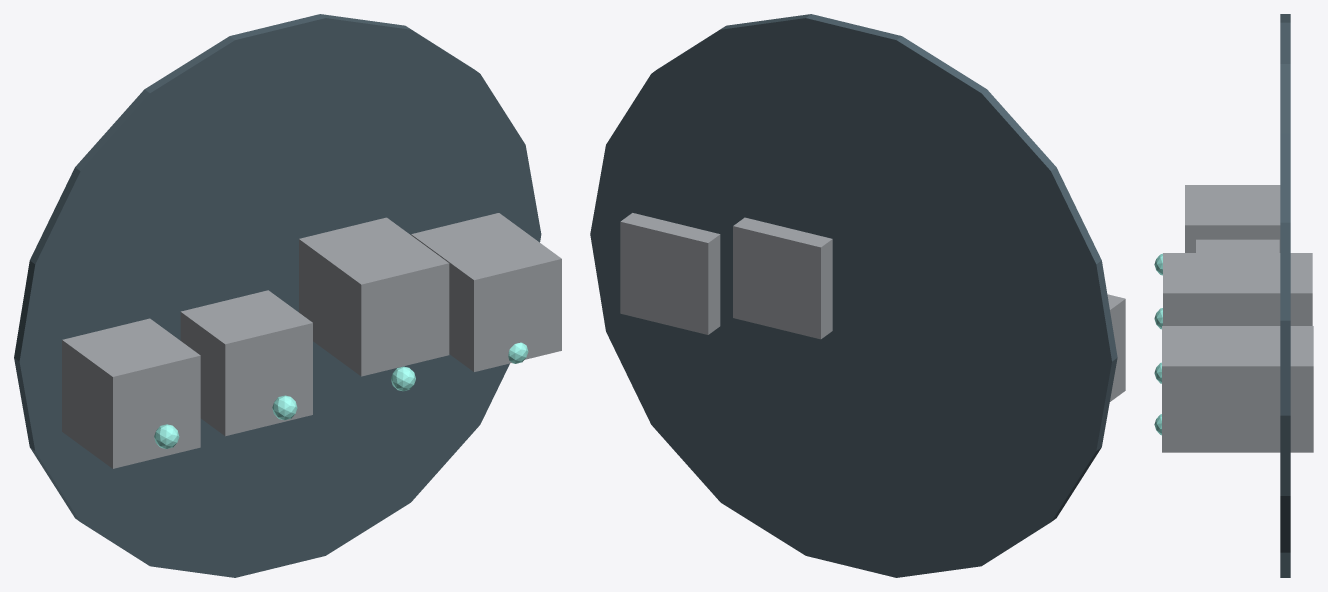
Rendered from 04_event_hazard_cluster.glb.
The picture shows the model from 3 angles, left to right: view 1: azimuth 30°, elevation 25°; view 2: azimuth 150°, elevation 25°; view 3: azimuth 270°, elevation 25°; orthographic projection. The views are drawn at different scales.
Visible parts, largest first — view 1: scatter_base, tech_crate_2, tech_crate_0, tech_crate_3, tech_crate_1; view 2: scatter_base, tech_crate_3, tech_crate_2, tech_crate_0; view 3: tech_crate_3, tech_crate_2, scatter_base, tech_crate_0, tech_crate_1.
Boxes of the visible parts, x1,y1,x2,y2 form: scatter_base: (14,14,541,577); tech_crate_2: (299,217,449,376); tech_crate_0: (62,318,200,468); tech_crate_3: (411,213,561,371); tech_crate_1: (180,290,312,436); scatter_base: (590,14,1117,577); tech_crate_3: (620,213,720,334); tech_crate_2: (733,217,832,339); tech_crate_0: (1107,294,1125,401); tech_crate_3: (1162,326,1313,452); tech_crate_2: (1163,253,1312,325); scatter_base: (1280,14,1290,577); tech_crate_0: (1185,185,1280,252); tech_crate_1: (1196,239,1279,252).
Bounding box in the file's own units: 1.9 × 1.87 × 0.5342.
